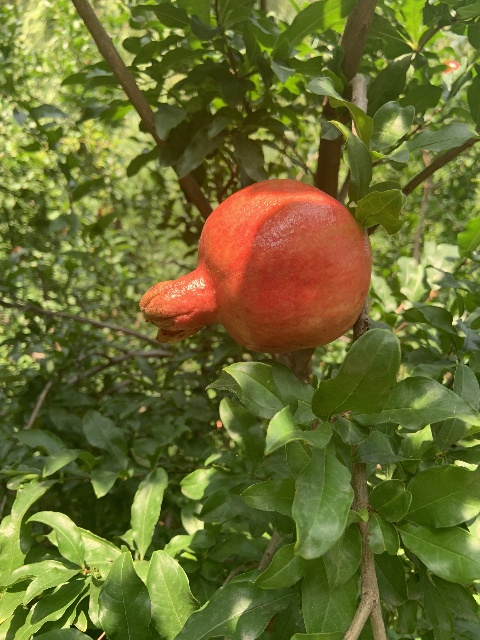ripe: (139, 178, 373, 354)
